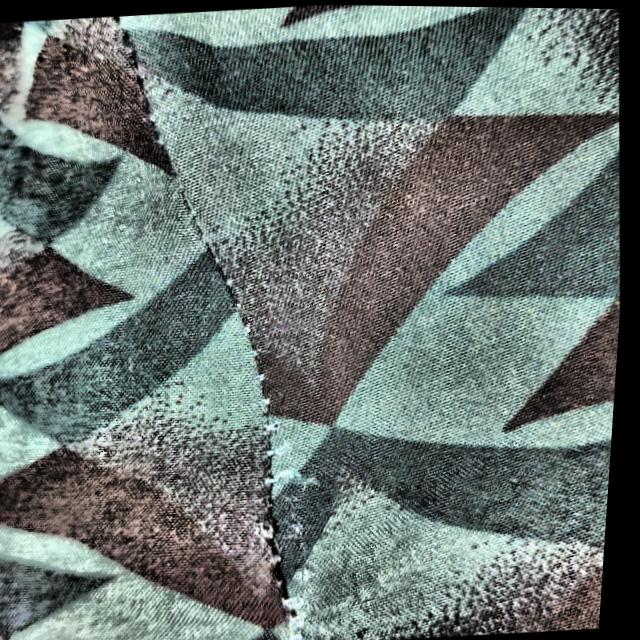Stitch: (221, 343, 371, 640)
